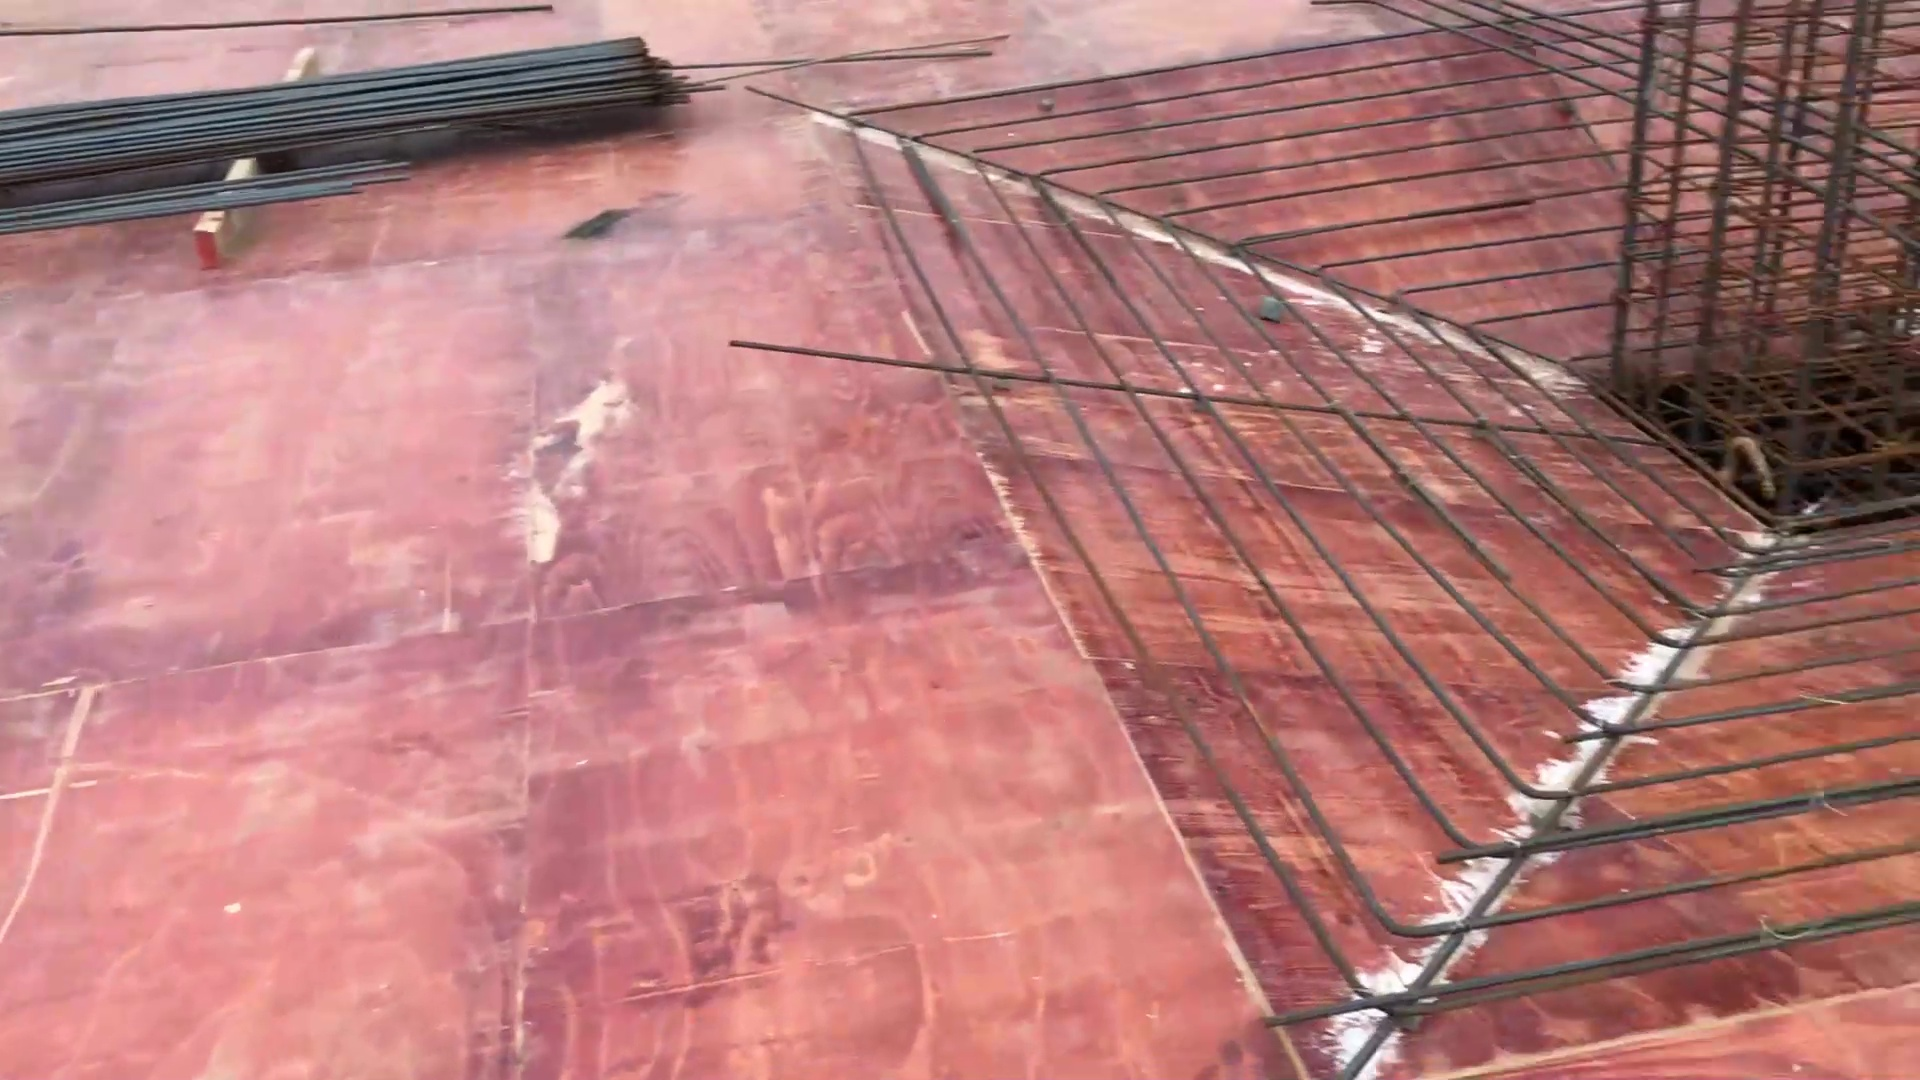rebar: (7, 29, 713, 214)
